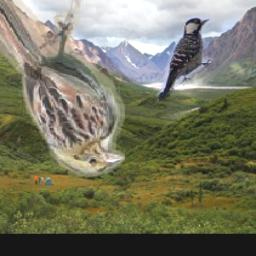Sparrow: (0, 0, 125, 177)
Woodpecker: (154, 13, 216, 105)
